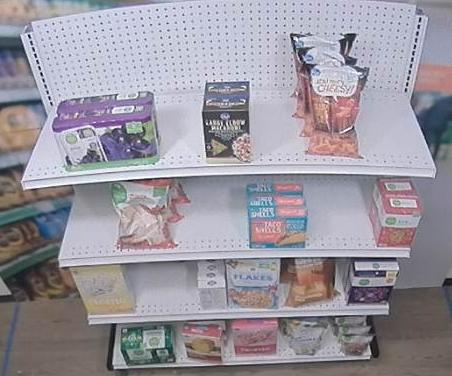stockout: (362, 66, 432, 164), (250, 77, 304, 160), (309, 177, 373, 245), (182, 178, 244, 245), (156, 81, 203, 162), (60, 188, 115, 255), (23, 99, 65, 177), (136, 264, 195, 312)
